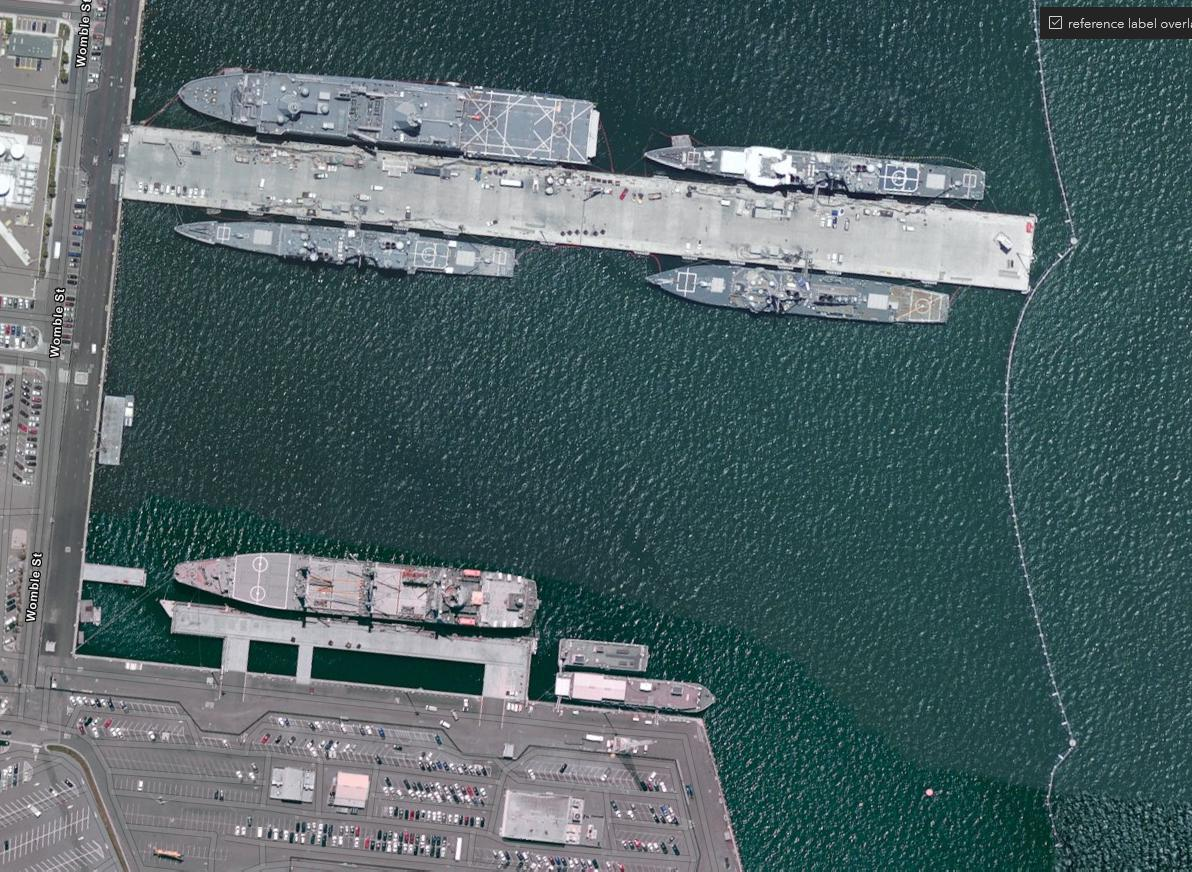amphiby: (174, 62, 604, 171)
cruiser: (637, 129, 1002, 207), (169, 214, 527, 281)
fregate: (642, 252, 959, 333)
supply: (163, 546, 553, 642)
